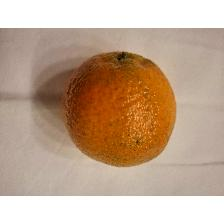Mandarine: (58, 48, 180, 170)
